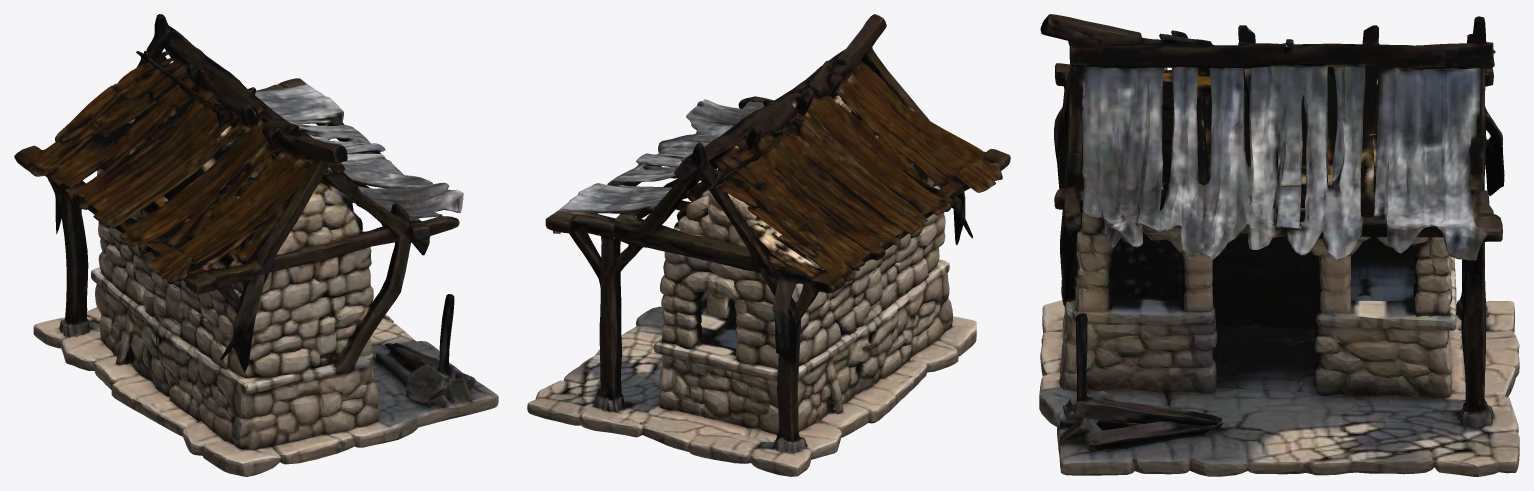
Rendered from war_market_stall_ruin_01.glb.
The picture shows the model from 3 angles, left to right: view 1: azimuth 30°, elevation 25°; view 2: azimuth 150°, elevation 25°; view 3: azimuth 270°, elevation 25°; orthographic projection. The views are drawn at different scales.
Parts seen in each view (by area): view 1: geometry_0; view 2: geometry_0; view 3: geometry_0.
Boxes of the visible parts, box(x1,y1,x2,y2) form: geometry_0: box(14, 14, 498, 476); geometry_0: box(527, 14, 1010, 476); geometry_0: box(1039, 14, 1519, 476).
Size of the model in its own units: 0.9124 by 0.8459 by 1.
Materials: 1 (1 with a texture image).
